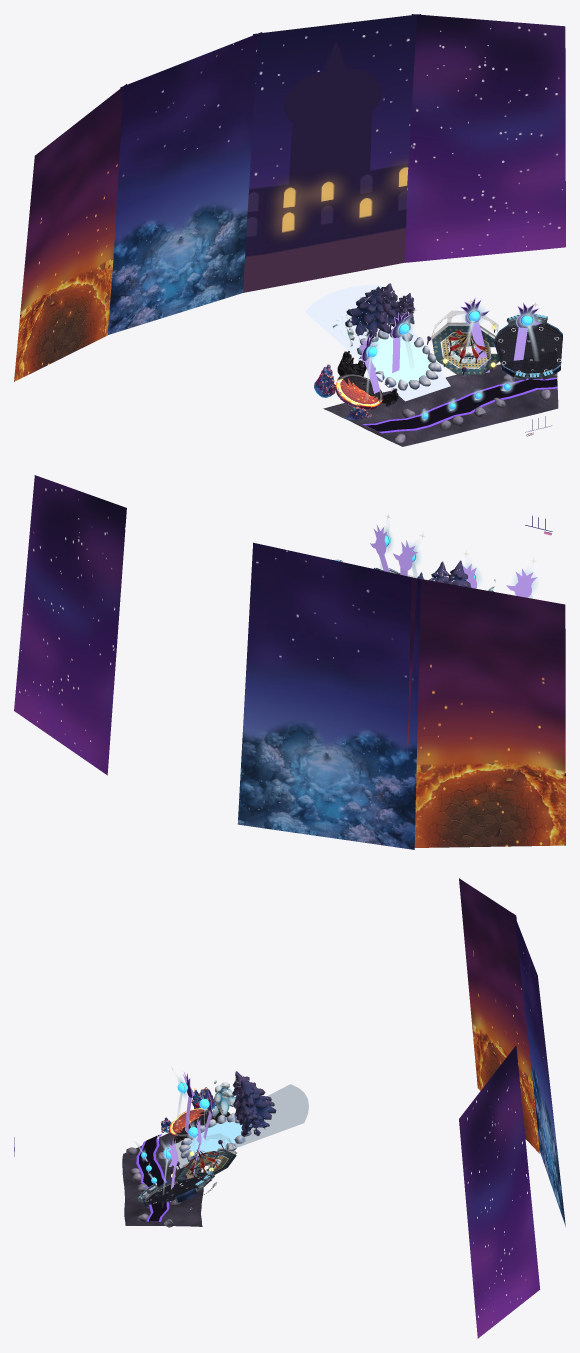
The model's file is panel04.glb.
3 views of the same model, one above another, from view 1: azimuth 30°, elevation 25°; view 2: azimuth 150°, elevation 25°; view 3: azimuth 270°, elevation 25° (orthographic). The views are drawn at different scales.
Parts seen in each view (by area): view 1: Slice_arabian_card, Slice_cosmic_card, Slice_frozen_card, Slice_volcanic_card, Crack_ground, Cosmic_platform, Frozen_ring_snow, Arabian_stage, Volcanic_pit, Crack_dark, Frozen_ring_floor, Frozen_ring_pine_04 (+2 smaller); view 2: Slice_frozen_card, Slice_volcanic_card, Slice_cosmic_card; view 3: Slice_cosmic_card, Slice_volcanic_card, Slice_frozen_card, Crack_ground, Frozen_ring_snow, Cosmic_platform, Arabian_stage, Volcanic_pit, Frozen_ring_floor, Crack_dark, Frozen_ring_pine_03.
Boxes of the visible parts, x1,y1,x2,y2 form: Slice_arabian_card: (243,14,420,292); Slice_cosmic_card: (405,14,565,262); Slice_frozen_card: (107,32,262,334); Slice_volcanic_card: (14,84,126,381); Crack_ground: (323,364,558,446); Cosmic_platform: (493,314,562,380); Frozen_ring_snow: (305,285,450,401); Arabian_stage: (431,311,503,374); Volcanic_pit: (314,351,398,419); Crack_dark: (365,379,557,431); Frozen_ring_floor: (371,337,429,382); Frozen_ring_pine_04: (345,286,388,338); Slice_frozen_card: (237,542,420,849); Slice_volcanic_card: (407,577,565,847); Slice_cosmic_card: (14,475,126,775); Slice_cosmic_card: (459,1045,540,1338); Slice_volcanic_card: (459,878,539,1153); Slice_frozen_card: (513,913,565,1226); Crack_ground: (122,1133,203,1226); Frozen_ring_snow: (169,1084,308,1169); Cosmic_platform: (138,1164,216,1209); Arabian_stage: (169,1134,236,1181); Volcanic_pit: (161,1087,230,1143); Frozen_ring_floor: (189,1121,242,1154); Crack_dark: (139,1135,166,1221); Frozen_ring_pine_03: (238,1080,276,1126).
Bounding box in the file's own units: 51.14 × 23.98 × 47.6.
59 materials, 41 textured.
